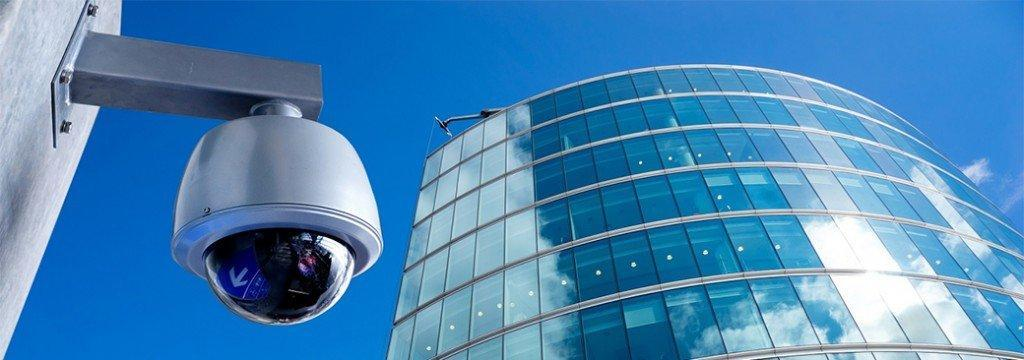CCTV: (52, 25, 383, 325)
